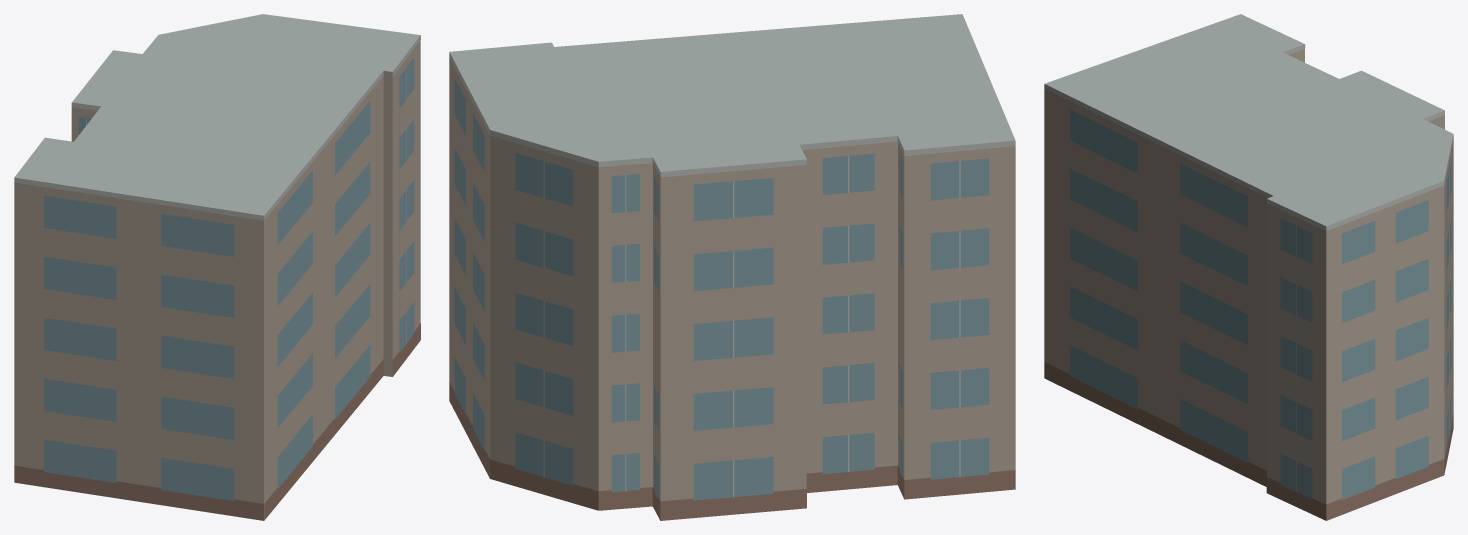
Rendered from survey-upis-32818483.glb.
3 views of the same model, side by side, from view 1: azimuth 30°, elevation 25°; view 2: azimuth 150°, elevation 25°; view 3: azimuth 270°, elevation 25° (orthographic). The views are drawn at different scales.
Visible parts, largest first — view 1: survey-upis-32818483.tmp; view 2: survey-upis-32818483.tmp; view 3: survey-upis-32818483.tmp.
Part boxes in pixels (box(x1,y1,x2,y2)): survey-upis-32818483.tmp: box(14, 14, 420, 520); survey-upis-32818483.tmp: box(449, 14, 1015, 520); survey-upis-32818483.tmp: box(1044, 14, 1453, 520).
Size of the model in its own units: 23.59 by 15.25 by 19.21.
